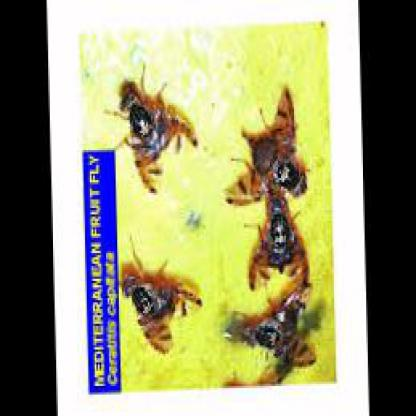fruit fly: (221, 91, 311, 206), (120, 85, 200, 198), (124, 273, 203, 360), (250, 199, 310, 292)
